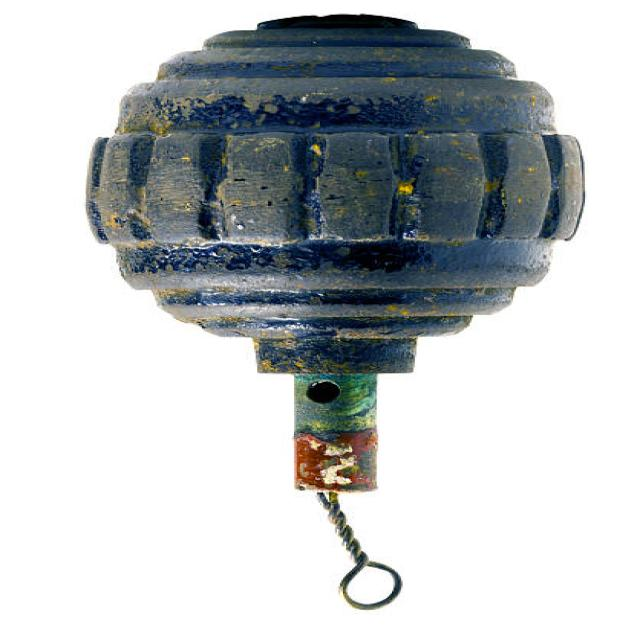grenade: (48, 1, 590, 628)
